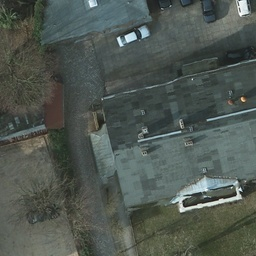car: (117, 26, 150, 44), (201, 1, 216, 24), (236, 1, 252, 18)
